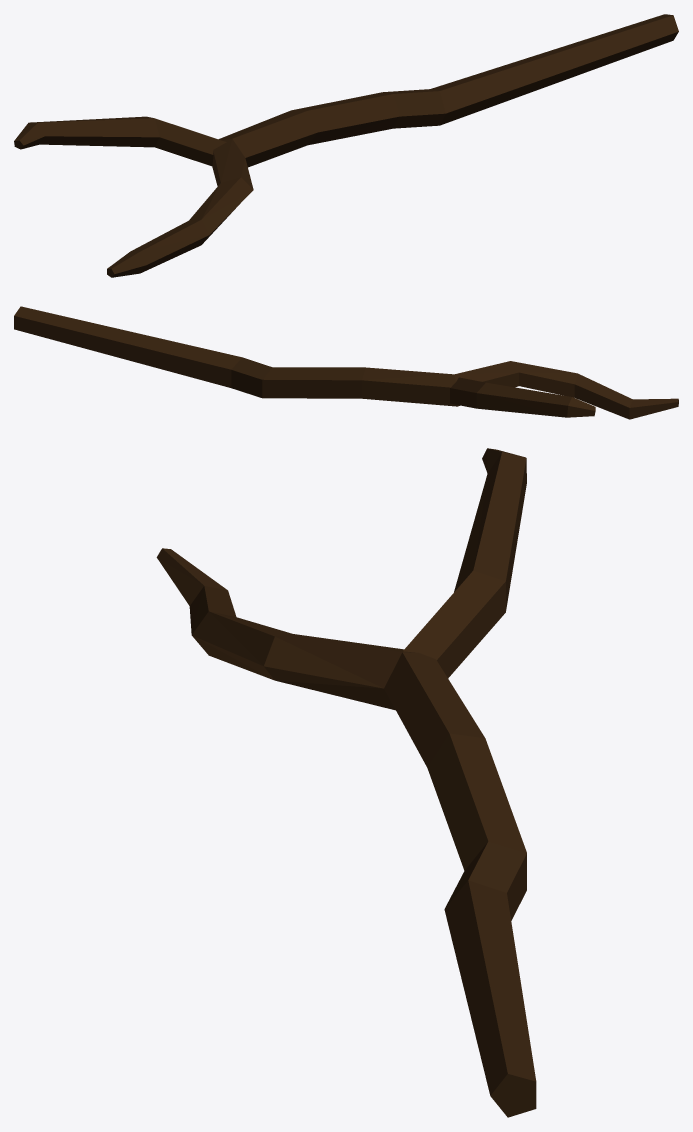
Rendered from Galaz_8.fbx.
3 renders of one model, top to bottom at view 1: azimuth 30°, elevation 25°; view 2: azimuth 150°, elevation 25°; view 3: azimuth 270°, elevation 25°, orthographic. The views are drawn at different scales.
Visible parts, largest first — view 1: Galaz_8_LOD0; view 2: Galaz_8_LOD0; view 3: Galaz_8_LOD0.
Boxes of the visible parts, box(x1,y1,x2,y2) form: Galaz_8_LOD0: box(14, 14, 678, 277); Galaz_8_LOD0: box(14, 306, 678, 419); Galaz_8_LOD0: box(156, 448, 536, 1117).
Size of what is drawn, in the model's own units: 3822 by 503 by 1095.
